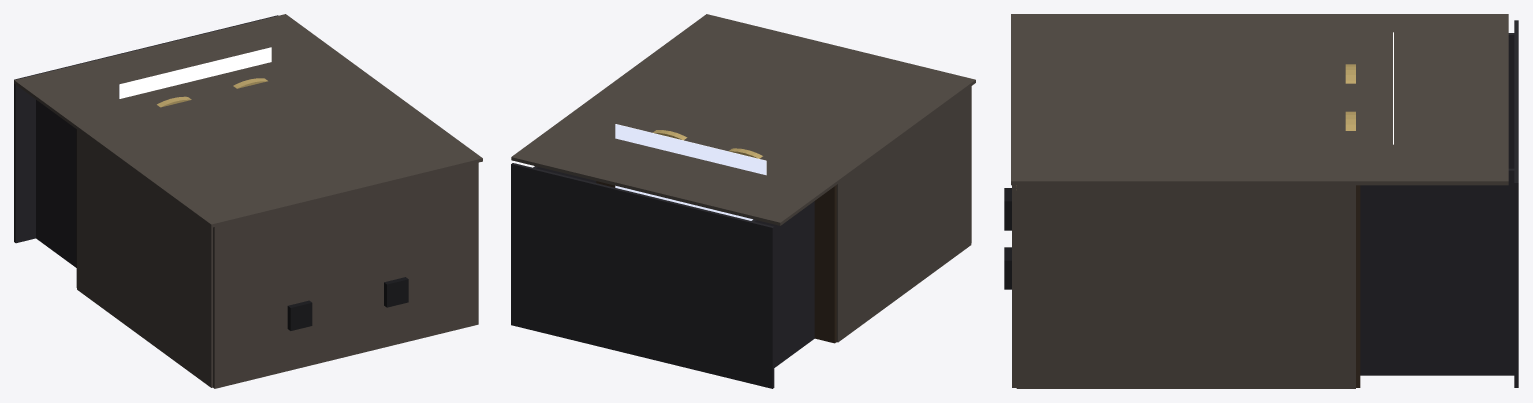
Rendered from theatre-web-v2.glb.
3 renders of one model, left to right at view 1: azimuth 30°, elevation 25°; view 2: azimuth 150°, elevation 25°; view 3: azimuth 270°, elevation 25°, orthographic. The views are drawn at different scales.
Visible parts, largest first — view 1: Ceiling, Wall_AudBack, Wall_AudLeft, Wall_StageLeft, Wall_Back, SGT_CinemaScreen, SGT_Exit_Void0, SGT_Exit_Void1; view 2: Ceiling, Wall_Back, Wall_AudLeft, Wall_StageLeft, Proscenium_FlankL, SGT_CinemaScreen; view 3: Ceiling, Wall_AudRight, Wall_StageRight, Wall_Back, Proscenium_FlankR, Wall_AudBack, Wall_StageLeft, SGT_Prosc_Arch.
Boxes of the visible parts, left/top/right/bottom form: Ceiling: left=14, top=14, right=482, bottom=227; Wall_AudBack: left=213, top=162, right=478, bottom=388; Wall_AudLeft: left=77, top=130, right=212, bottom=387; Wall_StageLeft: left=36, top=100, right=76, bottom=267; Wall_Back: left=14, top=15, right=278, bottom=243; SGT_CinemaScreen: left=119, top=47, right=271, bottom=98; SGT_Exit_Void0: left=287, top=300, right=312, bottom=330; SGT_Exit_Void1: left=384, top=277, right=408, bottom=307; Ceiling: left=511, top=14, right=975, bottom=225; Wall_Back: left=511, top=163, right=774, bottom=388; Wall_AudLeft: left=836, top=86, right=971, bottom=342; Wall_StageLeft: left=751, top=201, right=814, bottom=367; Proscenium_FlankL: left=814, top=185, right=836, bottom=343; SGT_CinemaScreen: left=615, top=124, right=766, bottom=220; Ceiling: left=1011, top=14, right=1508, bottom=185; Wall_AudRight: left=1016, top=185, right=1355, bottom=388; Wall_StageRight: left=1360, top=168, right=1516, bottom=375; Wall_Back: left=1514, top=20, right=1518, bottom=387; Proscenium_FlankR: left=1356, top=185, right=1360, bottom=387; Wall_AudBack: left=1012, top=185, right=1016, bottom=387; Wall_StageLeft: left=1508, top=33, right=1516, bottom=168; SGT_Prosc_Arch: left=1345, top=64, right=1355, bottom=130.
Bounding box in the file's own units: 35 × 22.4 × 45.48.
